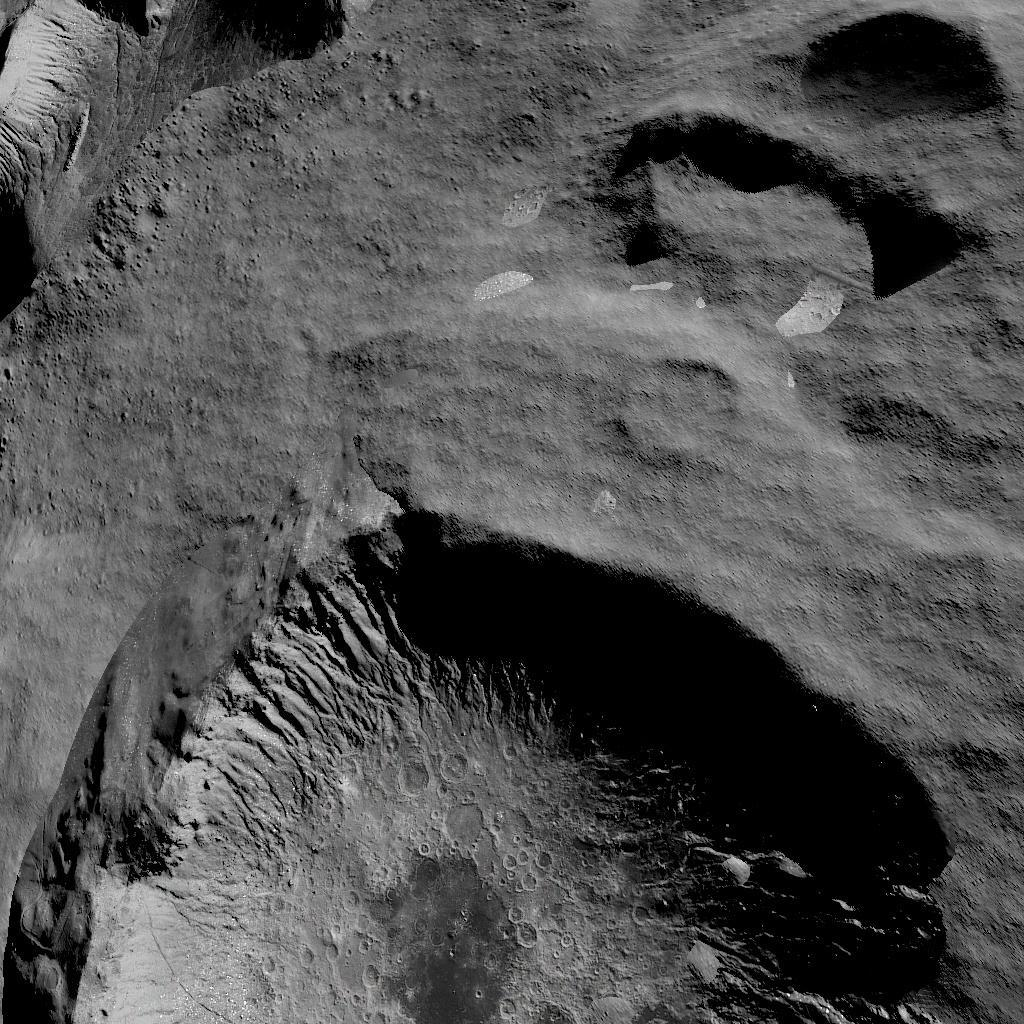Boulders: (3, 0, 344, 308)
Crater: (3, 504, 946, 1024), (603, 8, 997, 298), (605, 336, 740, 472)
Plan surface: (371, 0, 576, 487)
